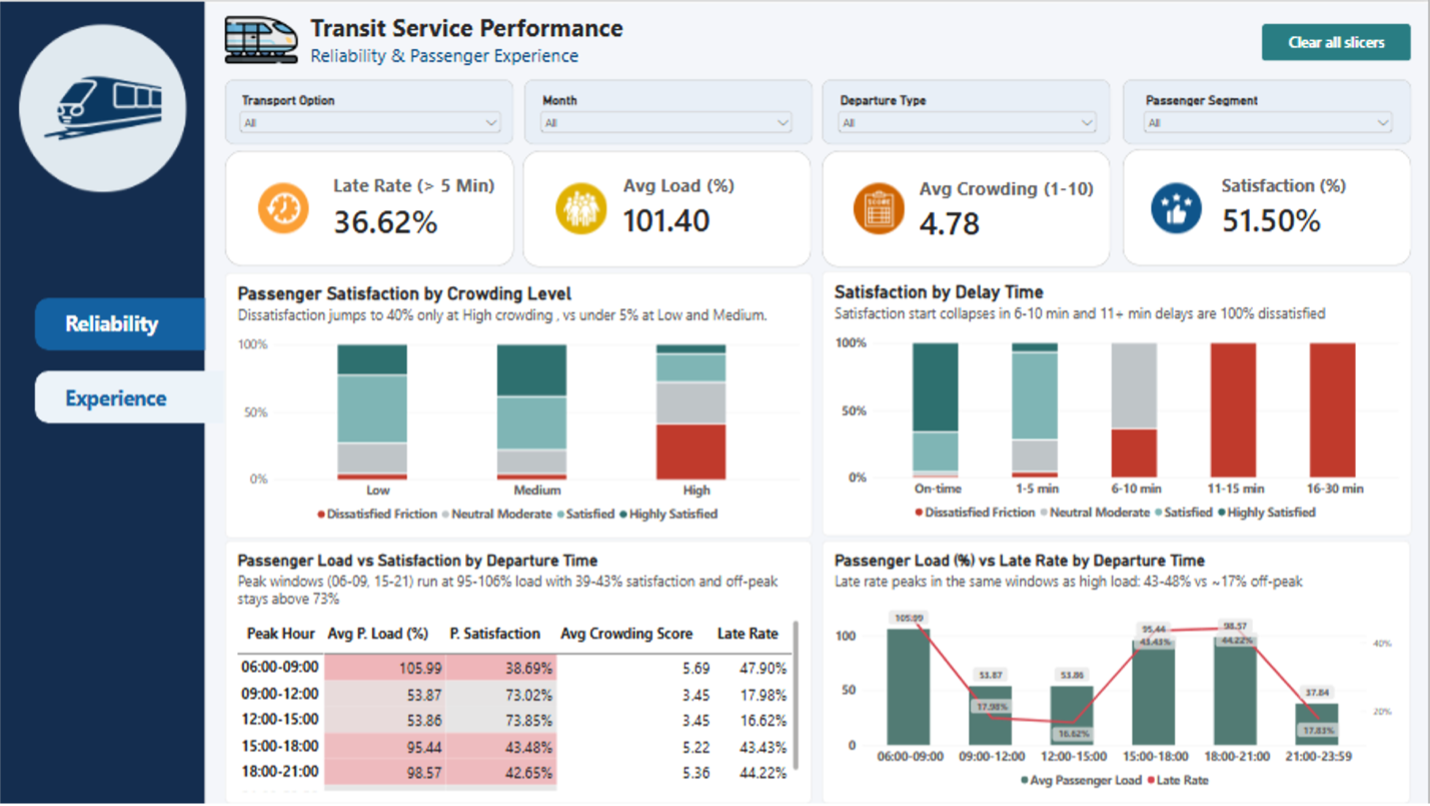

This screenshot's page, from the dashboard's own definition file:
{"tool":"powerbi","page":{"name":"Passenger Experience","canvas":[1920,1080],"ordinal":2},"visuals":[{"type":"shape","box":[0,0,275.6,1079.7],"z":0},{"type":"shape","box":[276.1,2.1,1644.4,1079.7],"z":1000},{"type":"textbox","box":[416.9,13.4,501,55.5],"z":2000},{"type":"textbox","box":[416.9,55.5,416.9,95.6],"z":3000},{"type":"shape","box":[301.6,199.6,388.7,155],"z":4000},{"type":"shape","box":[302.2,103.3,388.2,88],"z":5000},{"type":"slicer","fields":{"Values":["transport_analyse.transit_mode"]},"box":[316.5,121.1,361.1,70.1],"z":6000},{"type":"shape","box":[703.7,103.3,388.2,88],"z":7000},{"type":"shape","box":[1105.3,103.3,388.2,88],"z":8000},{"type":"shape","box":[1508.8,103.3,388.2,88],"z":9000},{"type":"shape","box":[1508.8,198.9,388.2,156.8],"z":10000},{"type":"cardVisual","fields":{"Data":["transport_analyse.Late_Significant_Late"]},"box":[433.1,231.1,264.5,89.5],"z":11000},{"type":"shape","box":[1104.4,199.6,388.2,156.8],"z":14000},{"type":"shape","box":[703,199.6,388.2,156.8],"z":15000},{"type":"cardVisual","fields":{"Data":["transport_analyse.Passenger Satisfaction (%)"]},"box":[1626.9,227.3,250.6,97.7],"z":16000},{"type":"image","box":[747.6,222.8,68.7,108.3],"z":18000},{"type":"image","box":[1147.4,222.8,68.7,108.3],"z":19000},{"type":"cardVisual","fields":{"Data":["transport_analyse.Avg Crowding Score"]},"box":[1220.3,233.2,288.8,91.3],"z":20000},{"type":"image","box":[1548.3,223,68,108.3],"z":21000},{"type":"slicer","fields":{"Values":["transport_analyse.travel_date.Variation.Date Hierarchy.Month"]},"box":[722.1,121.1,348.3,80.7],"z":26000},{"type":"slicer","fields":{"Values":["transport_analyse.peak_hour_category"]},"box":[1121.4,121.1,356.8,91.3],"z":27000},{"type":"slicer","fields":{"Values":["transport_analyse.passenger_segment"]},"box":[1533.5,121.1,344.1,101.9],"z":28000},{"type":"actionButton","box":[1697,29.7,200,50],"z":29000},{"type":"image","box":[25.5,12.7,225.1,261.2],"z":30000},{"type":"shape","box":[46.7,397.2,229.4,70.1],"z":31000},{"type":"textbox","box":[87.1,412,312.2,72.2],"z":32000},{"type":"shape","box":[46.7,497,254.9,70.1],"z":33000},{"type":"textbox","box":[87.1,514,189,72.2],"z":34000},{"type":"cardVisual","fields":{"Data":["transport_analyse.Avg Passenger Load"]},"box":[821.9,227.3,248.5,95.6],"z":34500},{"type":"hundredPercentStackedColumnChart","title":"Passenger Satisfaction by Crowding Level","fields":{"Category":["transport_analyse.Crowding Level2"],"Series":["transport_analyse.transit_satisfaction_class"],"Y":["CountNonNull(transport_analyse.trip_id)"]},"box":[301.6,363.2,790.1,356.8],"z":34501},{"type":"pivotTable","title":"Passenger Load vs Satisfaction by Departure Time","fields":{"Rows":["transport_analyse.bucket_hour"],"Values":["transport_analyse.Avg Passenger Load","transport_analyse.Passenger Satisfaction (%)","transport_analyse.Avg Crowding Score","transport_analyse.Late_Significant_Late"]},"box":[302,724.7,789.2,354],"z":34504},{"type":"image","box":[347.8,222.8,68,108.3],"z":34505},{"type":"hundredPercentStackedColumnChart","title":"Satisfaction by Delay Time","fields":{"Category":["transport_analyse.delay_category"],"Series":["transport_analyse.transit_satisfaction_class"],"Y":["CountNonNull(transport_analyse.trip_id)"]},"box":[1103.7,362.3,793.4,356.1],"z":34506},{"type":"lineStackedColumnComboChart","title":"Passenger Load (%) vs Late Rate by Departure Time","fields":{"Category":["transport_analyse.bucket_hour"],"Y":["transport_analyse.Avg Passenger Load"],"Y2":["transport_analyse.Late_Significant_Late"]},"box":[1105.8,724.7,791.3,354],"z":34507},{"type":"image","box":[302.2,0,97.5,103.3],"z":34508}]}

Visuals, with their boxes in screenshot pixels (x1, y1, x2, y2), scaled from the page's 1920x1080 canvas onto the 1430x806 screenshot:
shape: (left=0, top=0, right=205, bottom=805)
shape: (left=206, top=2, right=1429, bottom=805)
textbox: (left=311, top=10, right=684, bottom=51)
textbox: (left=311, top=41, right=621, bottom=113)
shape: (left=225, top=149, right=514, bottom=265)
shape: (left=225, top=77, right=514, bottom=143)
slicer - transport_analyse.transit_mode: (left=236, top=90, right=505, bottom=143)
shape: (left=524, top=77, right=813, bottom=143)
shape: (left=823, top=77, right=1112, bottom=143)
shape: (left=1124, top=77, right=1413, bottom=143)
shape: (left=1124, top=148, right=1413, bottom=265)
cardVisual - transport_analyse.Late_Significant_Late: (left=323, top=172, right=520, bottom=239)
shape: (left=823, top=149, right=1112, bottom=266)
shape: (left=524, top=149, right=813, bottom=266)
cardVisual - transport_analyse.Passenger Satisfaction (%): (left=1212, top=170, right=1398, bottom=243)
image: (left=557, top=166, right=608, bottom=247)
image: (left=855, top=166, right=906, bottom=247)
cardVisual - transport_analyse.Avg Crowding Score: (left=909, top=174, right=1124, bottom=242)
image: (left=1153, top=166, right=1204, bottom=247)
slicer - transport_analyse.travel_date.Variation.Date Hierarchy.Month: (left=538, top=90, right=797, bottom=151)
slicer - transport_analyse.peak_hour_category: (left=835, top=90, right=1101, bottom=159)
slicer - transport_analyse.passenger_segment: (left=1142, top=90, right=1398, bottom=166)
actionButton: (left=1264, top=22, right=1413, bottom=59)
image: (left=19, top=9, right=187, bottom=204)
shape: (left=35, top=296, right=206, bottom=349)
textbox: (left=65, top=307, right=297, bottom=361)
shape: (left=35, top=371, right=225, bottom=423)
textbox: (left=65, top=384, right=206, bottom=437)
cardVisual - transport_analyse.Avg Passenger Load: (left=612, top=170, right=797, bottom=241)
"Passenger Satisfaction by Crowding Level" hundredPercentStackedColumnChart: (left=225, top=271, right=813, bottom=537)
"Passenger Load vs Satisfaction by Departure Time" pivotTable: (left=225, top=541, right=813, bottom=805)
image: (left=259, top=166, right=310, bottom=247)
"Satisfaction by Delay Time" hundredPercentStackedColumnChart: (left=822, top=270, right=1413, bottom=536)
"Passenger Load (%) vs Late Rate by Departure Time" lineStackedColumnComboChart: (left=824, top=541, right=1413, bottom=805)
image: (left=225, top=0, right=298, bottom=77)
